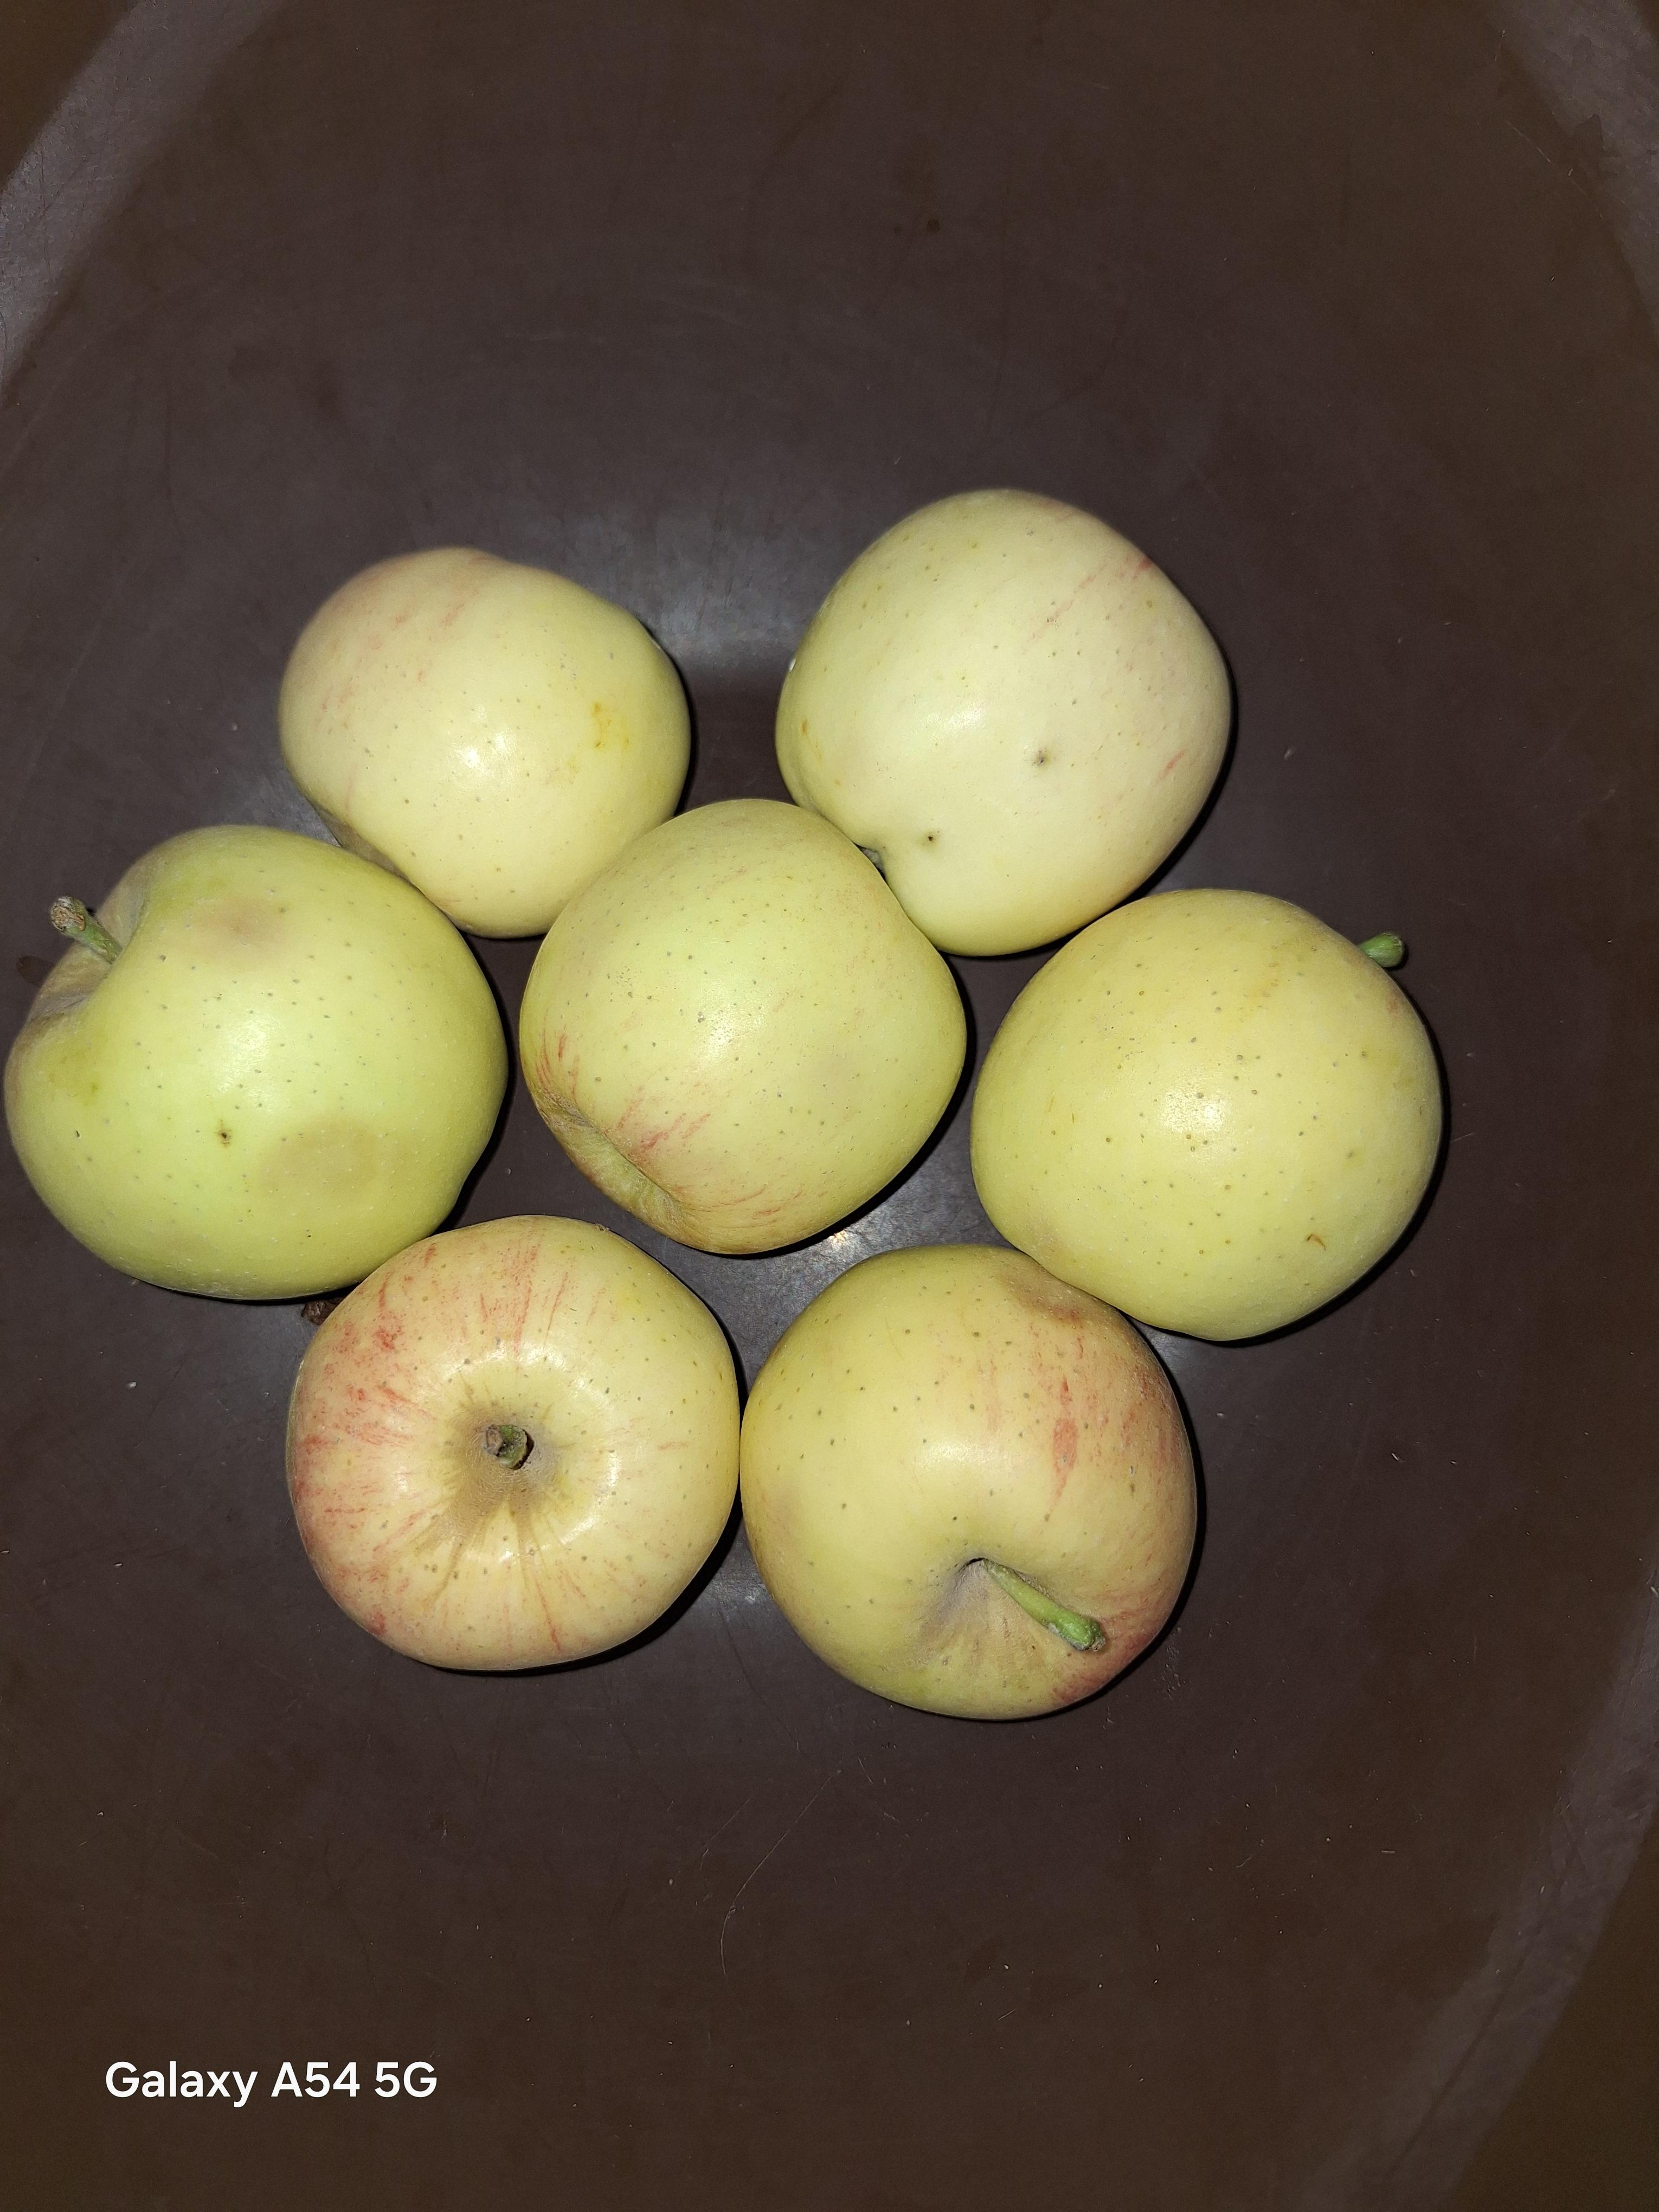non-mango: (737, 1211, 1227, 1740), (0, 792, 504, 1306), (938, 864, 1445, 1360), (265, 1205, 742, 1700), (521, 782, 974, 1263), (775, 479, 1216, 961), (228, 523, 711, 944)
